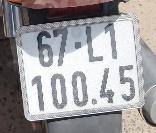0: (48, 70, 70, 110), (71, 67, 90, 107)
1: (29, 74, 47, 114), (103, 22, 121, 60)
4: (96, 66, 117, 104)
5: (118, 63, 138, 103)
6: (35, 28, 54, 69)
7: (51, 25, 71, 68)
L: (82, 22, 103, 63)
